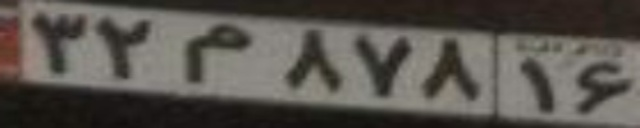1: (516, 53, 557, 113)
2: (93, 15, 155, 79)
3: (32, 9, 87, 76)
6: (571, 58, 631, 115)
7: (352, 34, 413, 99)
8: (421, 36, 483, 101), (284, 29, 343, 89)
mim: (182, 24, 252, 83)
